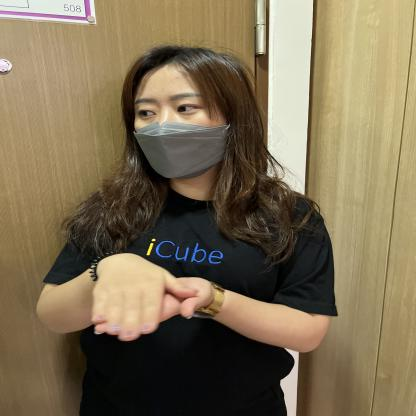Love: (40, 237, 312, 356)
